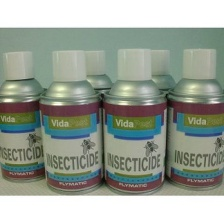bottle: (95, 44, 171, 198), (35, 47, 110, 198), (161, 45, 224, 192), (0, 47, 51, 185)
